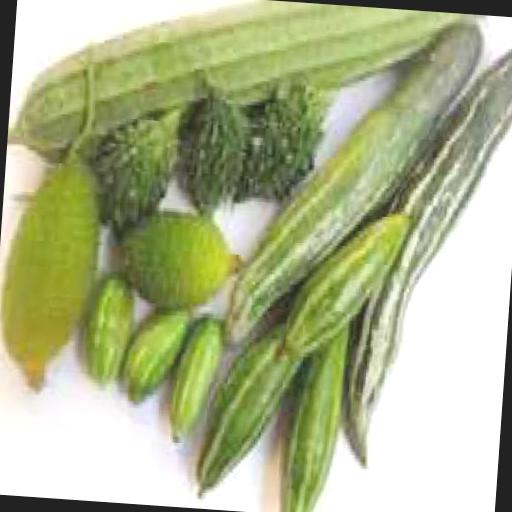biodegradable: (231, 6, 488, 360), (8, 0, 486, 189), (341, 30, 512, 473), (0, 60, 113, 392), (196, 308, 312, 504), (280, 203, 418, 366), (276, 313, 354, 512), (114, 202, 246, 316), (94, 92, 190, 232), (244, 80, 332, 206), (185, 68, 253, 210), (168, 312, 228, 449), (122, 302, 198, 405), (86, 267, 144, 382)
